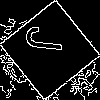J: (25, 25, 74, 55)
